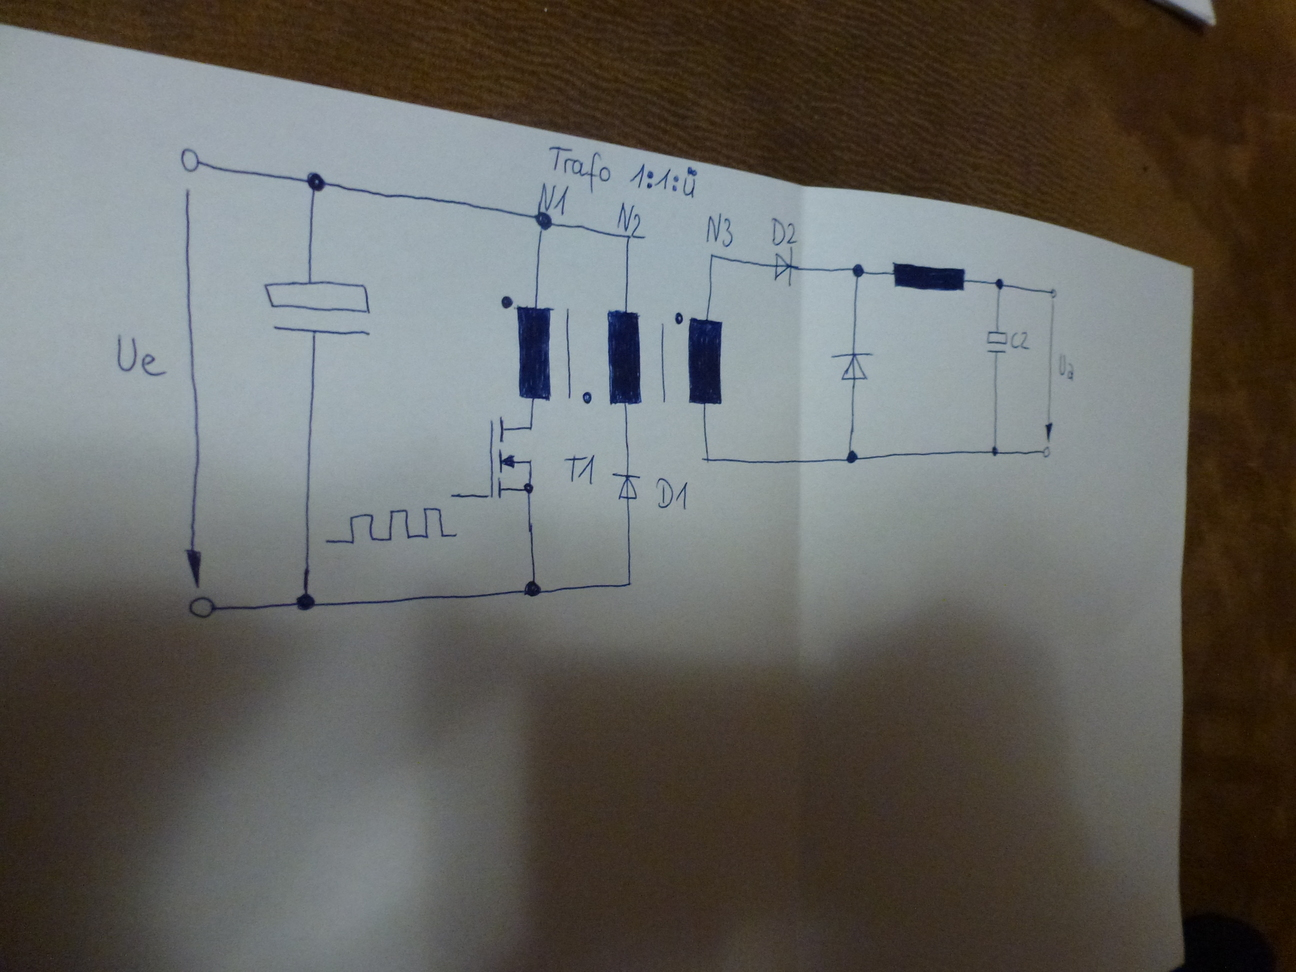capacitor.polarized: (257, 276, 375, 342), (984, 330, 1009, 356)
diode: (831, 347, 873, 385), (771, 246, 797, 288), (610, 471, 642, 503)
inductor: (891, 259, 969, 295)
junction: (289, 588, 320, 616), (302, 169, 328, 195), (521, 576, 543, 600), (533, 210, 555, 233), (847, 259, 867, 281), (843, 448, 860, 466), (991, 276, 1006, 292), (987, 443, 1001, 459), (699, 451, 714, 465), (624, 577, 636, 590), (706, 250, 718, 263), (624, 232, 635, 242)
terminal: (182, 591, 222, 623), (178, 144, 204, 176), (1040, 444, 1055, 460), (1047, 286, 1060, 301), (447, 491, 458, 499)
text: (545, 144, 699, 200), (112, 330, 167, 379), (653, 476, 692, 512), (703, 212, 736, 249), (563, 453, 598, 487), (538, 179, 567, 217), (616, 200, 645, 239), (769, 216, 800, 249), (1057, 352, 1077, 382), (1009, 330, 1031, 352)
transformer: (498, 294, 730, 407)
transistor: (484, 416, 536, 501)
